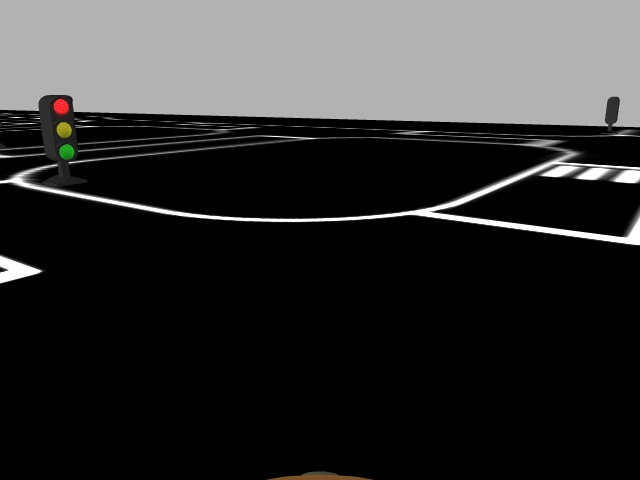red_light: (49, 95, 78, 162)
